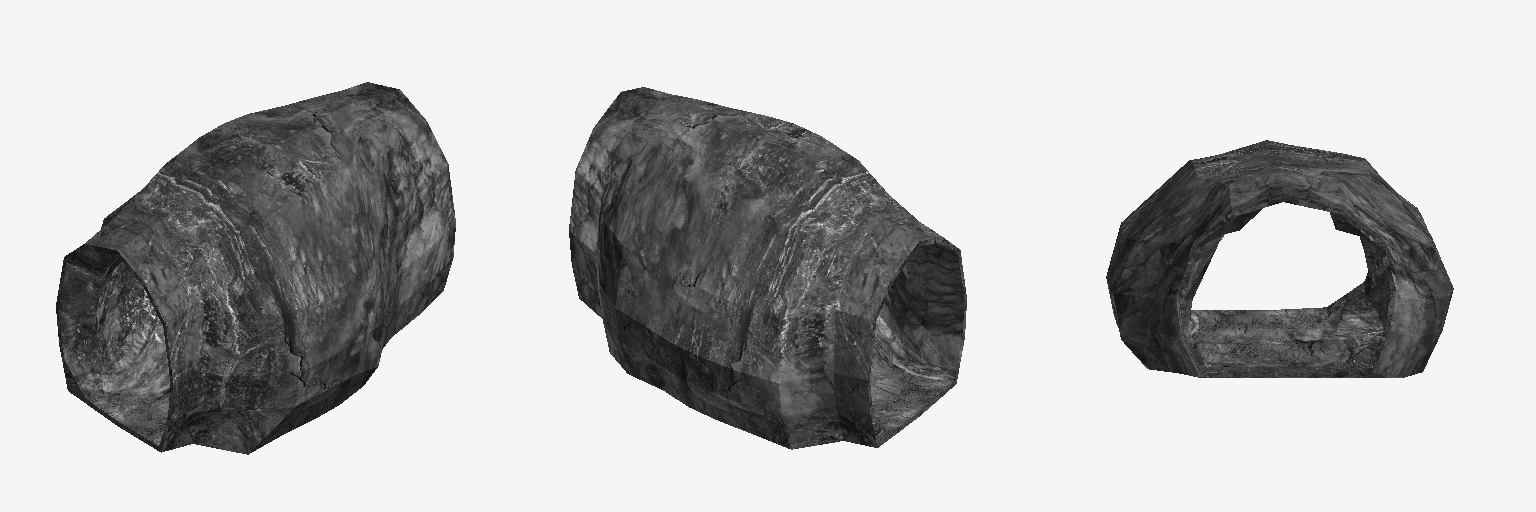
The picture shows the model from 3 angles: view 1: azimuth 30°, elevation 25°; view 2: azimuth 150°, elevation 25°; view 3: azimuth 270°, elevation 25°; orthographic projection.
Visible parts, largest first — view 1: caveramp3; view 2: caveramp3; view 3: caveramp3.
Part boxes in pixels (bbox=[...]): caveramp3: bbox=[56, 82, 455, 454]; caveramp3: bbox=[569, 87, 966, 449]; caveramp3: bbox=[1106, 140, 1453, 377].
Bounding box in the file's own units: 162 × 135 × 163.
Materials: 1 (1 with a texture image).